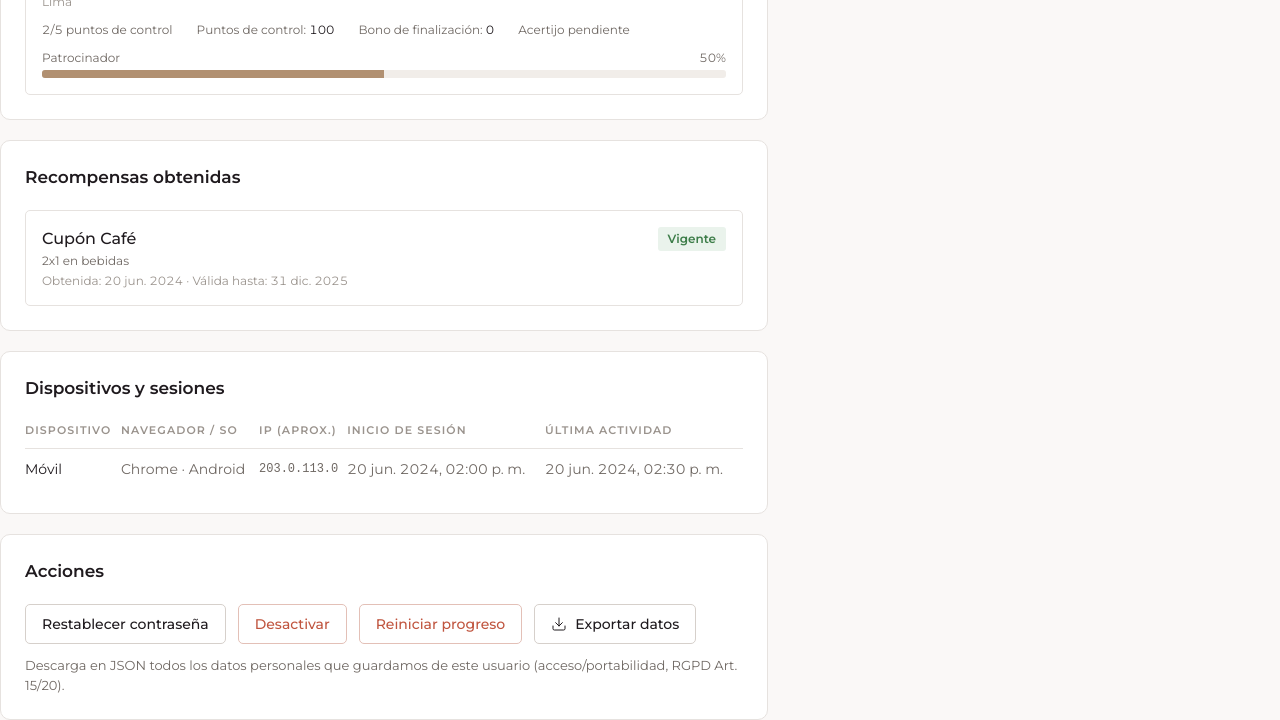
Password reset one-time reveal (spec §6.7, §11.3) › shows confirm dialog before resetting
This screenshot has width=1280, height=720.
(page scrolled)
Click the button "Restablecer contraseña" at coordinates (125, 624), box [25,604,226,644]
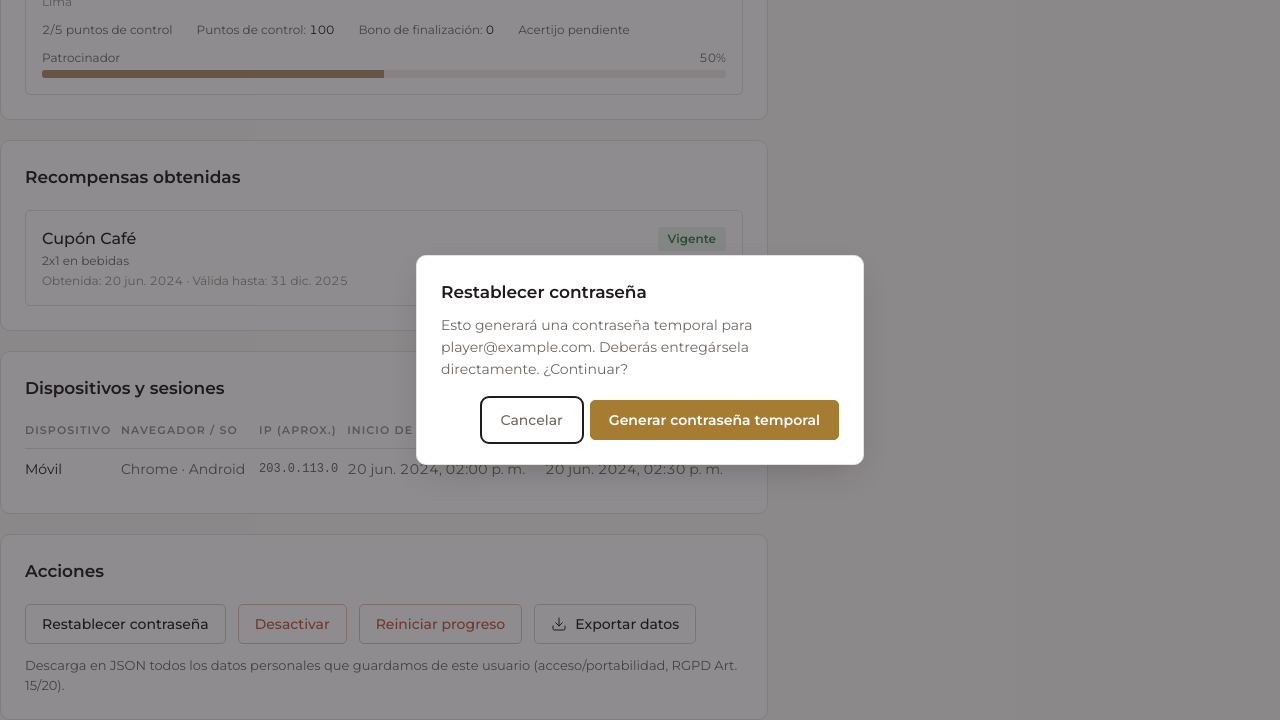
Expected: the dialog is shown
Expected: the button "Generar contraseña temporal" is shown, [590,400,839,440]
